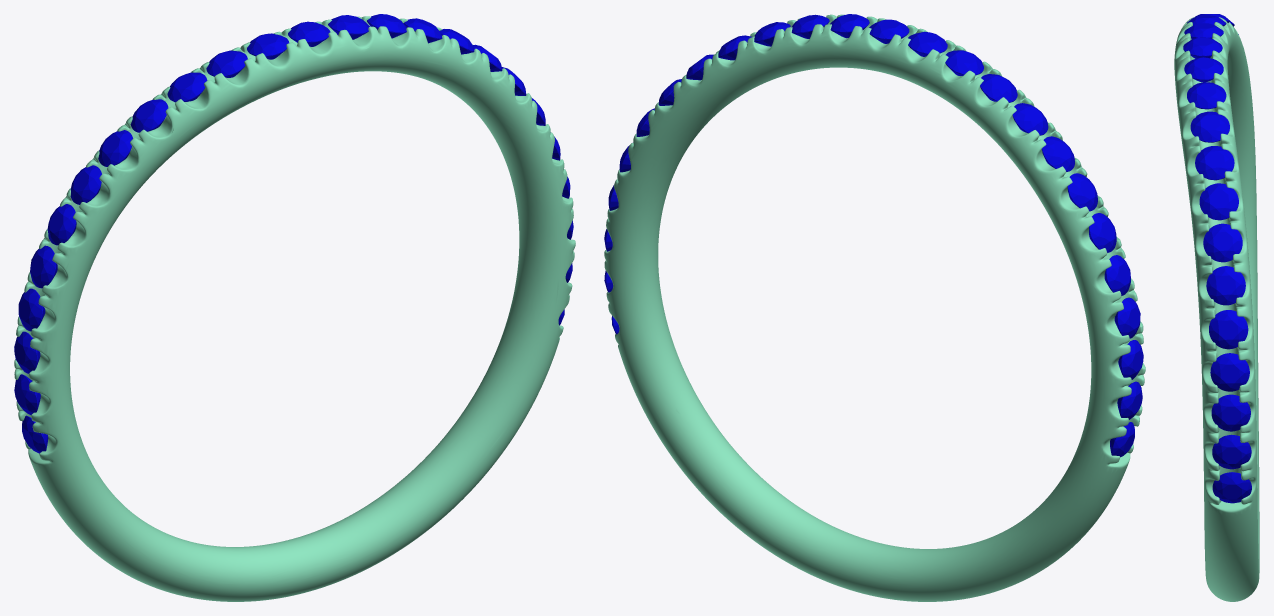
3 views of the same model, side by side, from view 1: azimuth 30°, elevation 25°; view 2: azimuth 150°, elevation 25°; view 3: azimuth 270°, elevation 25° (orthographic). The views are drawn at different scales.
Parts seen in each view (by area): view 1: Metal03, Diamond_Band.010, Diamond_Band.009, Diamond_Band.008, Diamond_Band.011, Diamond_Band.007, Diamond_Band.012, Diamond_Band.006, Diamond_Band.013, Diamond_Band.014, Diamond_Band, Diamond_Band.024; view 2: Metal03, Diamond_Band.009, Diamond_Band.010, Diamond_Band.008, Diamond_Band.011, Diamond_Band.012, Diamond_Band.007, Diamond_Band.006, Diamond_Band.013, Diamond_Band.014; view 3: Metal03, Diamond_Band.017, Diamond_Band.016, Diamond_Band.015, Diamond_Band.018, Diamond_Band.019, Diamond_Band.005, Diamond_Band.020, Diamond_Band.004, Diamond_Band.021, Diamond_Band.003, Diamond_Band.022 (+4 smaller).
Boxes of the visible parts, bbox=[...] form: Metal03: bbox=[14, 16, 575, 601]; Diamond_Band.010: bbox=[98, 130, 132, 166]; Diamond_Band.009: bbox=[70, 165, 101, 204]; Diamond_Band.008: bbox=[47, 204, 76, 245]; Diamond_Band.011: bbox=[130, 99, 168, 132]; Diamond_Band.007: bbox=[30, 245, 57, 288]; Diamond_Band.012: bbox=[167, 72, 207, 102]; Diamond_Band.006: bbox=[18, 288, 45, 331]; Diamond_Band.013: bbox=[206, 50, 247, 77]; Diamond_Band.014: bbox=[247, 33, 289, 59]; Diamond_Band: bbox=[14, 331, 40, 373]; Diamond_Band.024: bbox=[288, 21, 330, 46]; Metal03: bbox=[604, 14, 1145, 601]; Diamond_Band.009: bbox=[1067, 173, 1097, 211]; Diamond_Band.010: bbox=[1041, 136, 1074, 171]; Diamond_Band.008: bbox=[1089, 213, 1116, 252]; Diamond_Band.011: bbox=[1012, 103, 1048, 135]; Diamond_Band.012: bbox=[980, 74, 1017, 102]; Diamond_Band.007: bbox=[1104, 255, 1130, 295]; Diamond_Band.006: bbox=[1114, 297, 1140, 338]; Diamond_Band.013: bbox=[945, 50, 983, 75]; Diamond_Band.014: bbox=[908, 31, 947, 56]; Metal03: bbox=[1174, 17, 1259, 601]; Diamond_Band.017: bbox=[1206, 266, 1245, 305]; Diamond_Band.016: bbox=[1209, 310, 1248, 349]; Diamond_Band.015: bbox=[1210, 353, 1249, 391]; Diamond_Band.018: bbox=[1203, 223, 1242, 262]; Diamond_Band.019: bbox=[1199, 183, 1238, 220]; Diamond_Band.005: bbox=[1211, 394, 1250, 431]; Diamond_Band.020: bbox=[1195, 146, 1234, 180]; Diamond_Band.004: bbox=[1212, 434, 1251, 469]; Diamond_Band.021: bbox=[1190, 111, 1229, 142]; Diamond_Band.003: bbox=[1212, 472, 1251, 503]; Diamond_Band.022: bbox=[1187, 82, 1226, 109].
Size of the model in its own units: 20.76 by 20.88 by 3.03.
